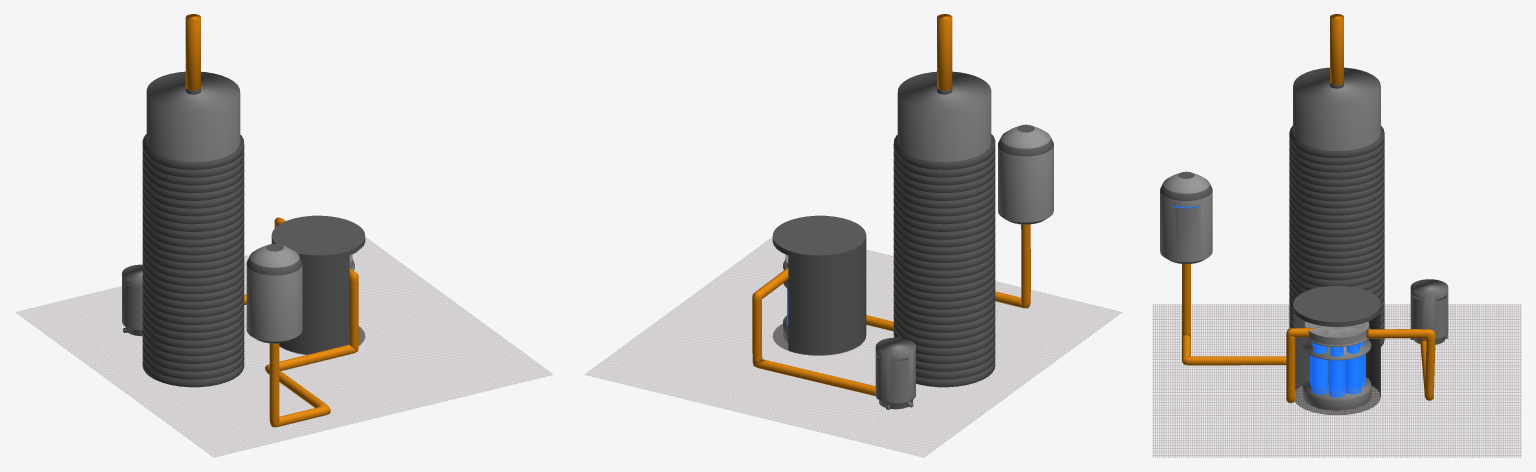
Rendered from SMR.glb.
3 renders of one model, left to right at view 1: azimuth 30°, elevation 25°; view 2: azimuth 150°, elevation 25°; view 3: azimuth 270°, elevation 25°, orthographic. The views are drawn at different scales.
Parts seen in each view (by area): view 1: SMR; view 2: SMR; view 3: SMR.
Boxes of the visible parts, x1=… form: SMR: x1=15, y1=14, x2=552, y2=457; SMR: x1=585, y1=14, x2=1122, y2=457; SMR: x1=1152, y1=14, x2=1521, y2=457.
Size of the model in its own units: 0.9457 by 0.9294 by 0.9582.
Materials: 6 (1 with a texture image).
